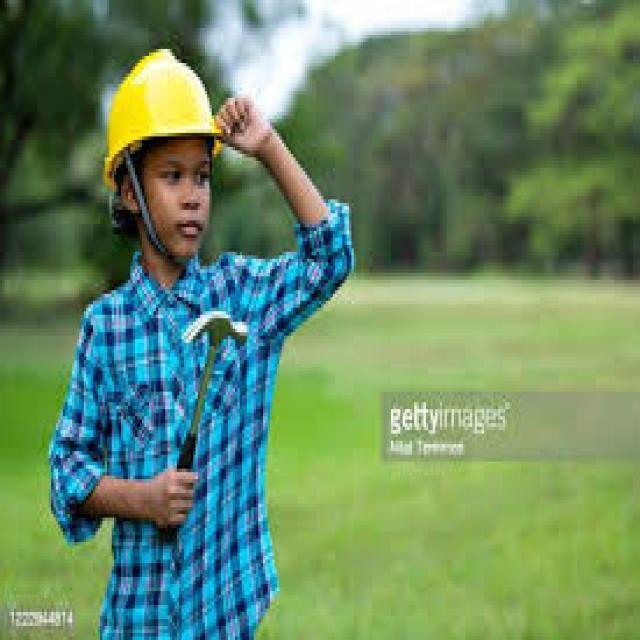hammer: (160, 295, 258, 530)
